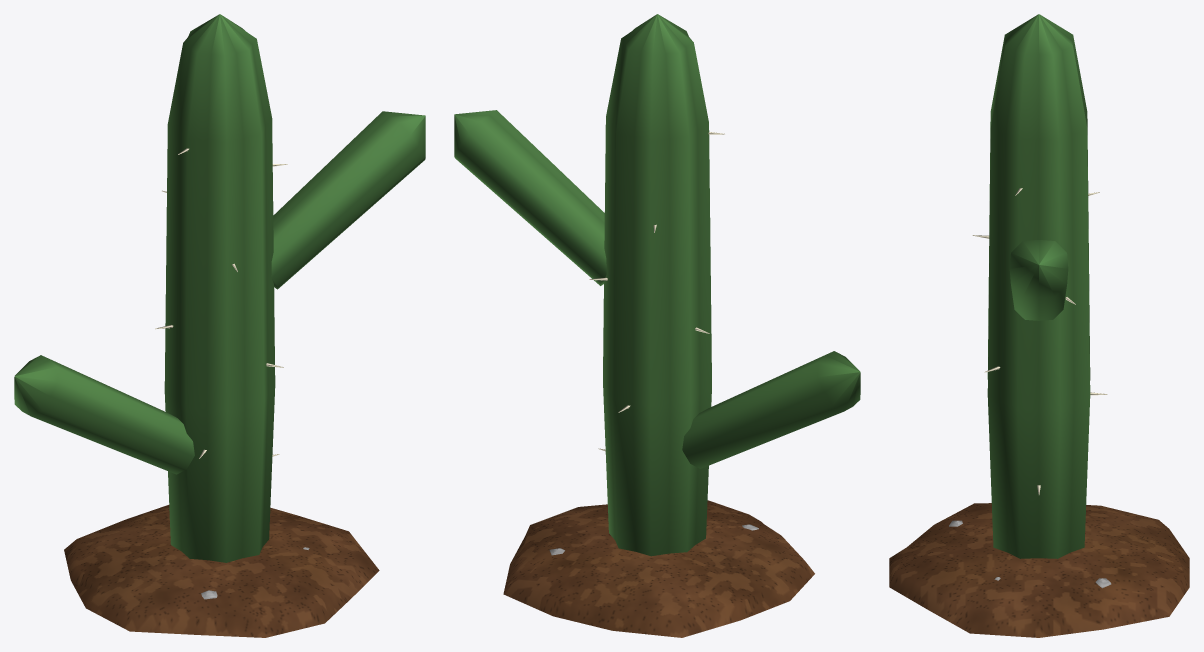
The model's file is plant-dragon-4.glb.
The picture shows the model from 3 angles, left to right: view 1: azimuth 30°, elevation 25°; view 2: azimuth 150°, elevation 25°; view 3: azimuth 270°, elevation 25°; orthographic projection.
Parts seen in each view (by area): view 1: plant-dragon-4; view 2: plant-dragon-4; view 3: plant-dragon-4.
Part boxes in pixels (x1=…): plant-dragon-4: x1=14, y1=14, x2=425, y2=637; plant-dragon-4: x1=454, y1=14, x2=860, y2=637; plant-dragon-4: x1=889, y1=14, x2=1189, y2=637.
Size of the model in its own units: 1.29 by 1.68 by 0.8189.
Materials: 4 (2 with a texture image).
